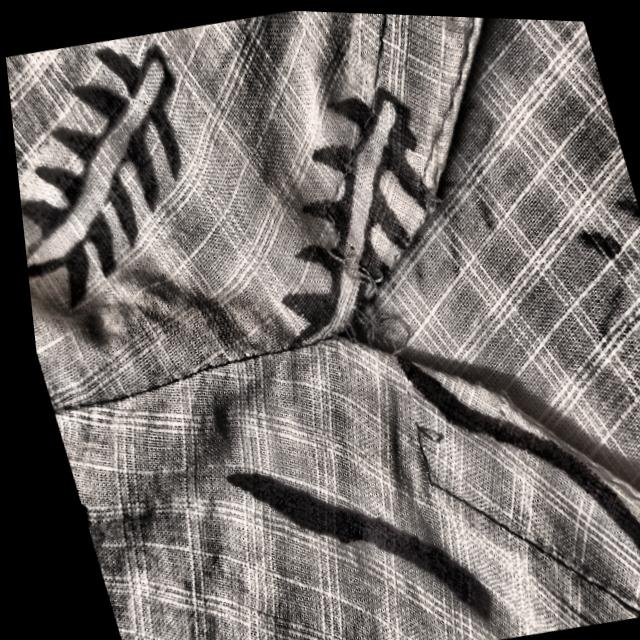Stitch: (255, 105, 453, 377), (355, 351, 508, 564)
